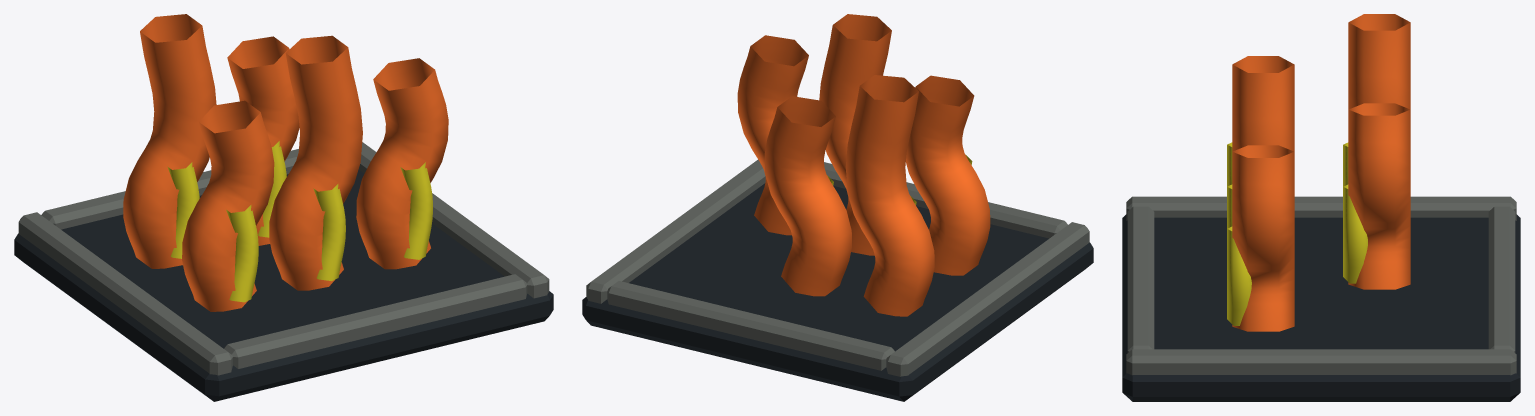
Rendered from terrain-fire.glb.
3 renders of one model, left to right at view 1: azimuth 30°, elevation 25°; view 2: azimuth 150°, elevation 25°; view 3: azimuth 270°, elevation 25°, orthographic. The views are drawn at different scales.
Visible parts, largest first — view 1: terrain-fire; view 2: terrain-fire; view 3: terrain-fire.
Part boxes in pixels (box(x1,y1,x2,y2)): terrain-fire: box(14, 14, 553, 401); terrain-fire: box(582, 14, 1093, 401); terrain-fire: box(1122, 14, 1520, 401).
Bounding box in the file's own units: 0.96 × 0.6978 × 0.96.
